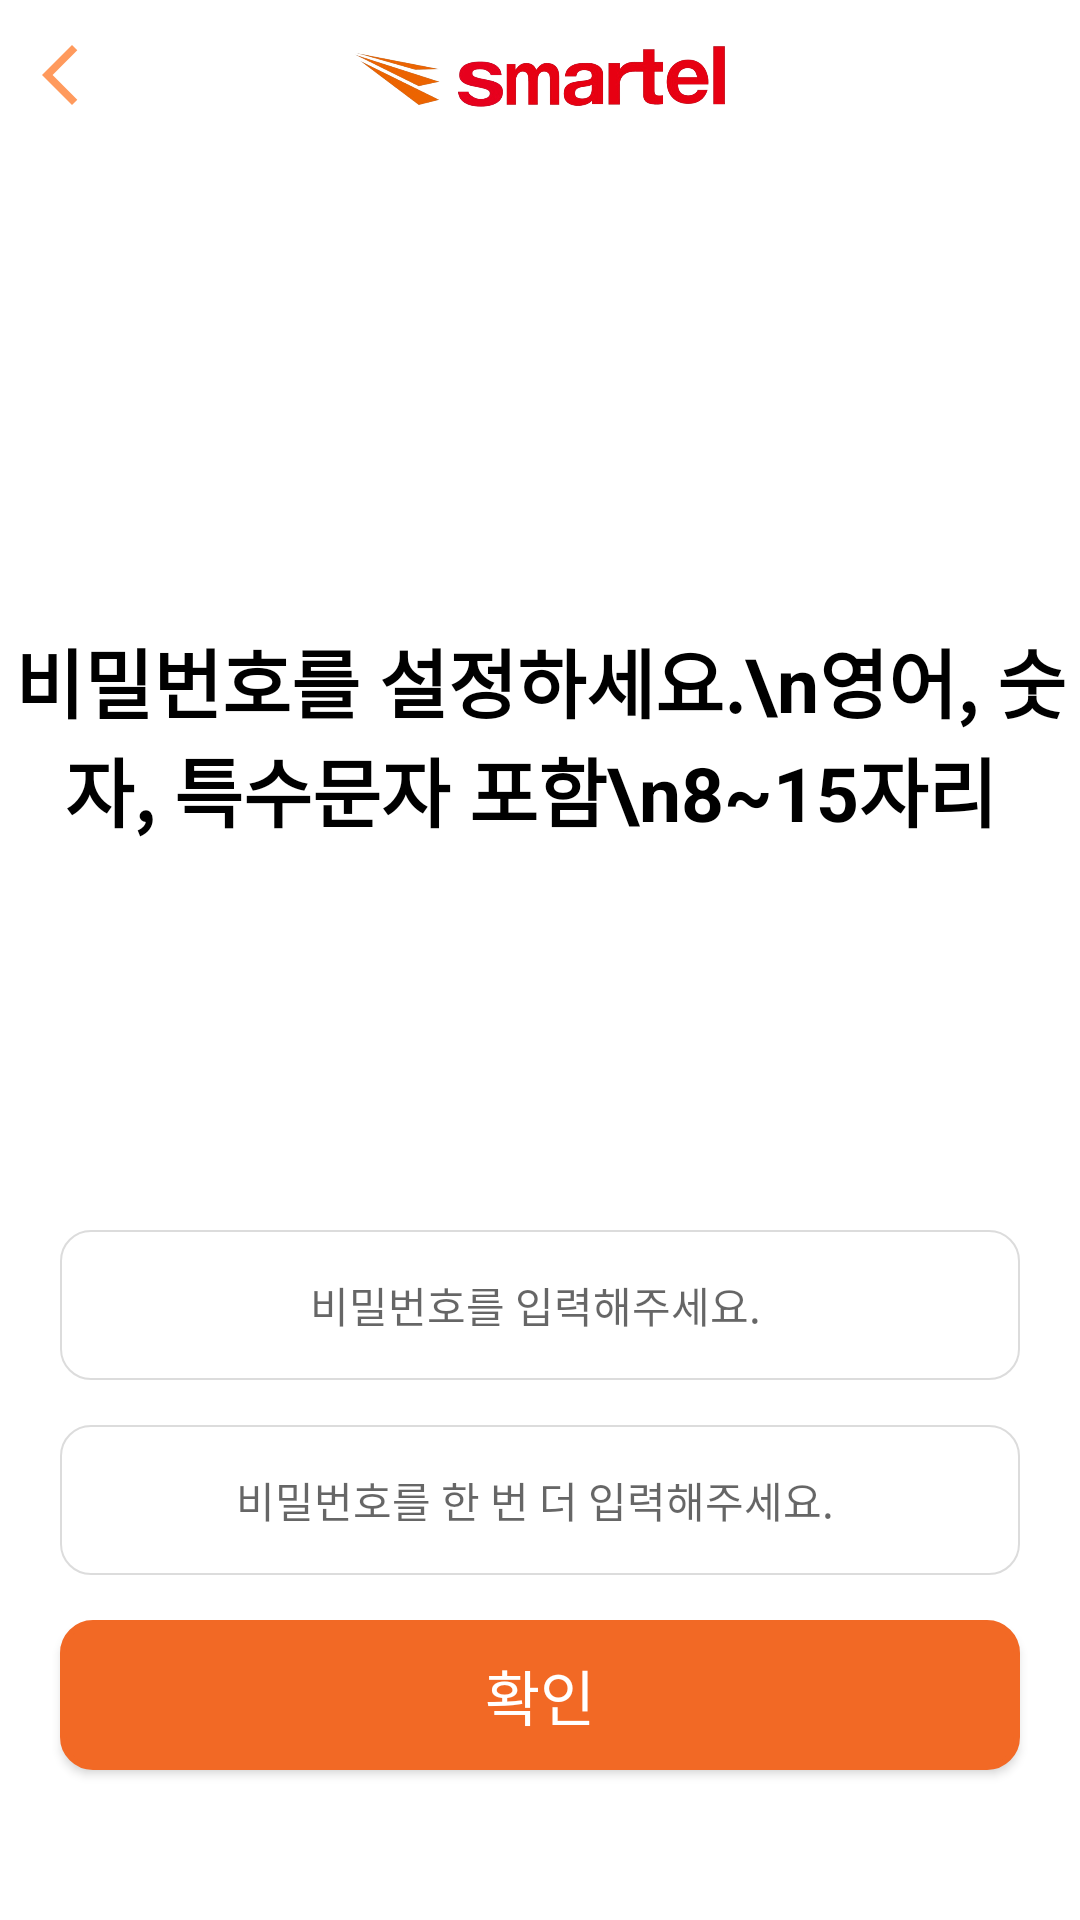

Screen size 1080*1920. Icon name, then its center in pixels as point (x, y):
arrow back: point (59, 75)
